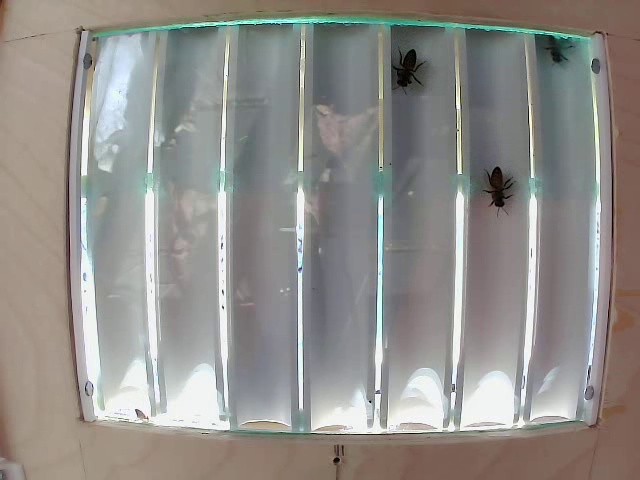bee: (466, 173, 516, 210), (388, 38, 418, 84), (544, 28, 575, 70)
